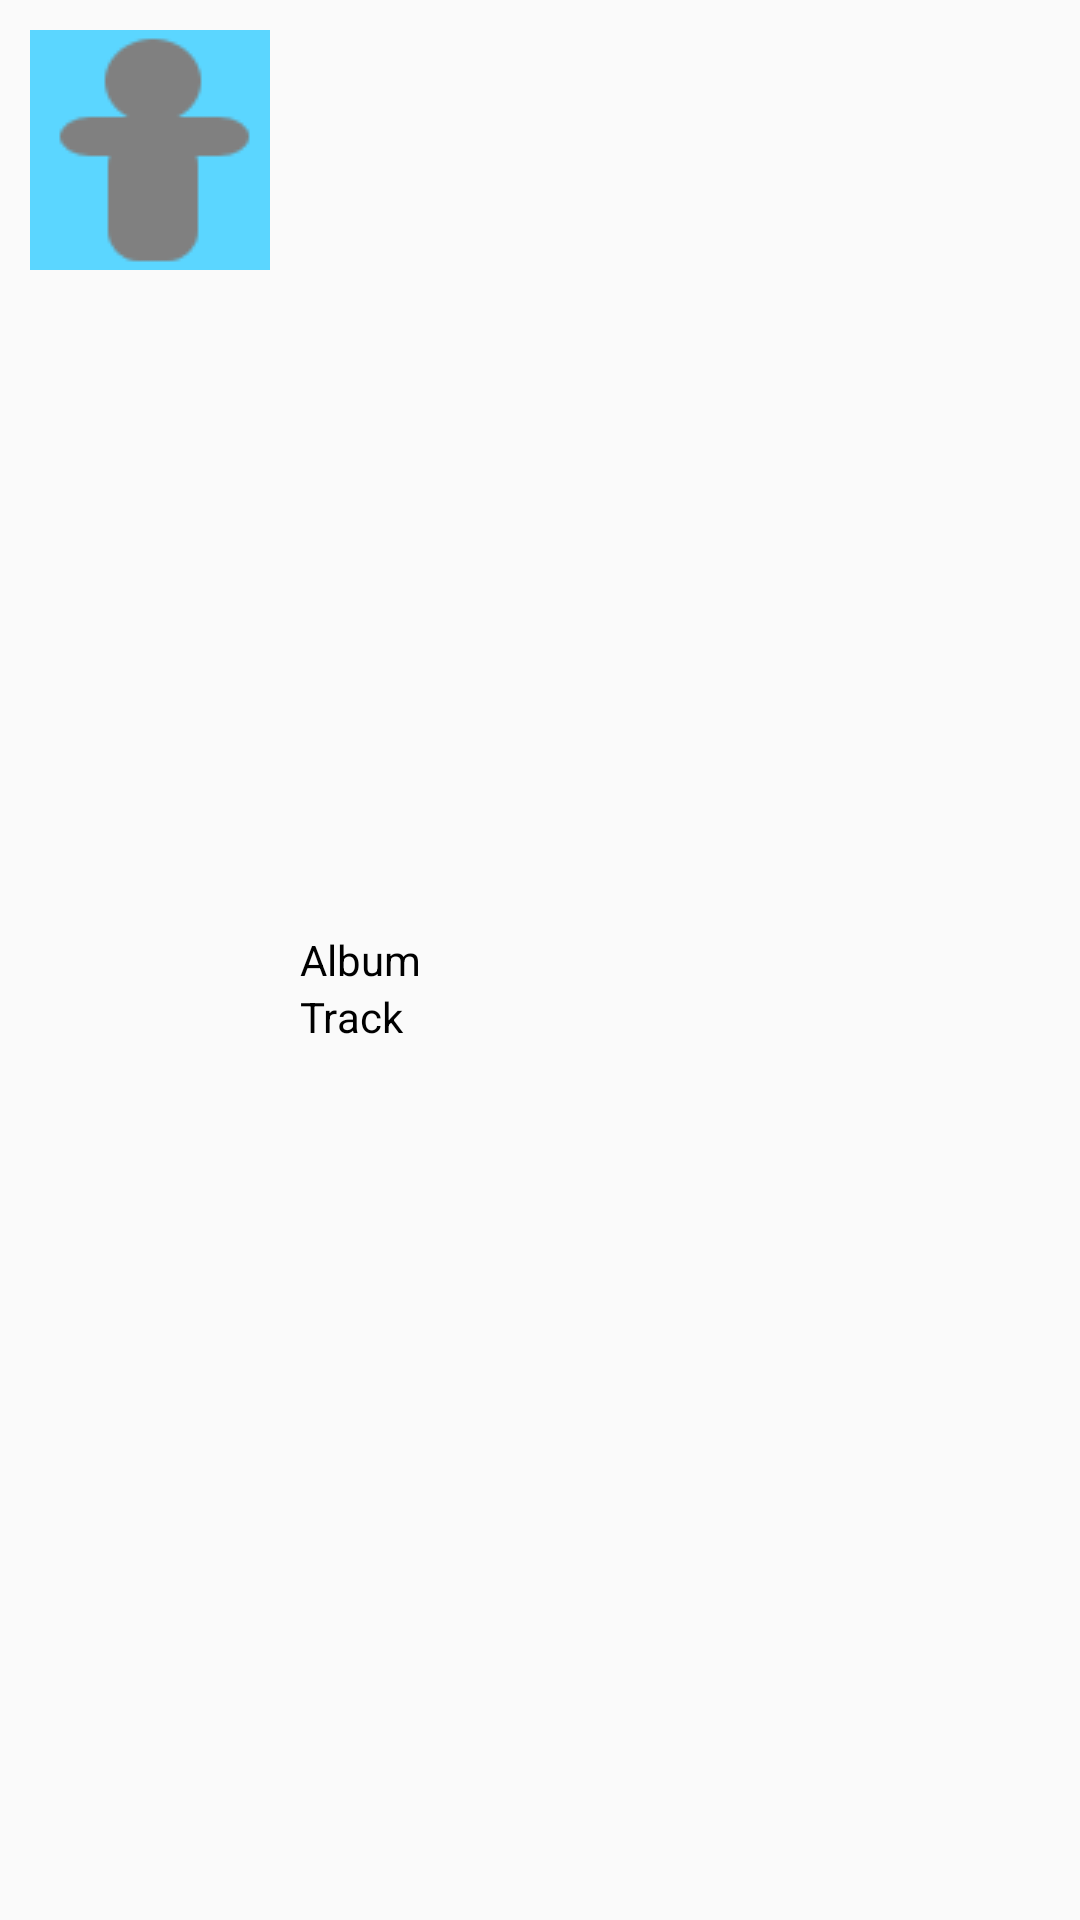

Screen size 1080*1920. Icon name, then its center in pixels as point (x, y):
stock thumbnail: point (150, 150)
